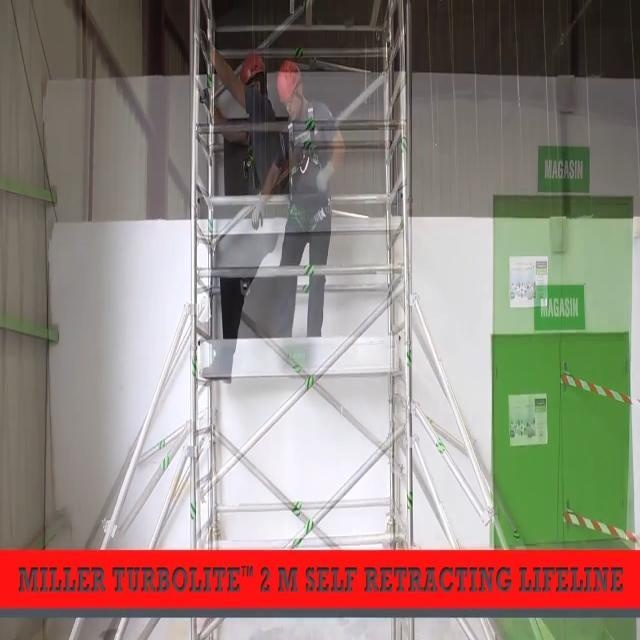Arnes_seguridad: (284, 104, 333, 231), (238, 110, 288, 234)
